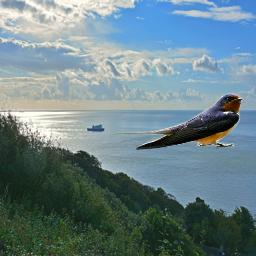Swallow: (109, 92, 244, 150)
